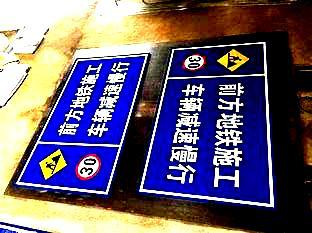sign: (157, 40, 273, 205), (40, 43, 131, 196)
